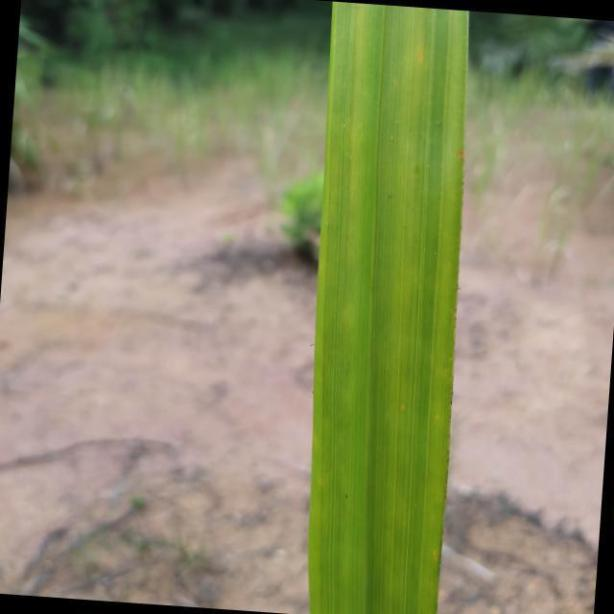nitrogen: (309, 0, 470, 614)
